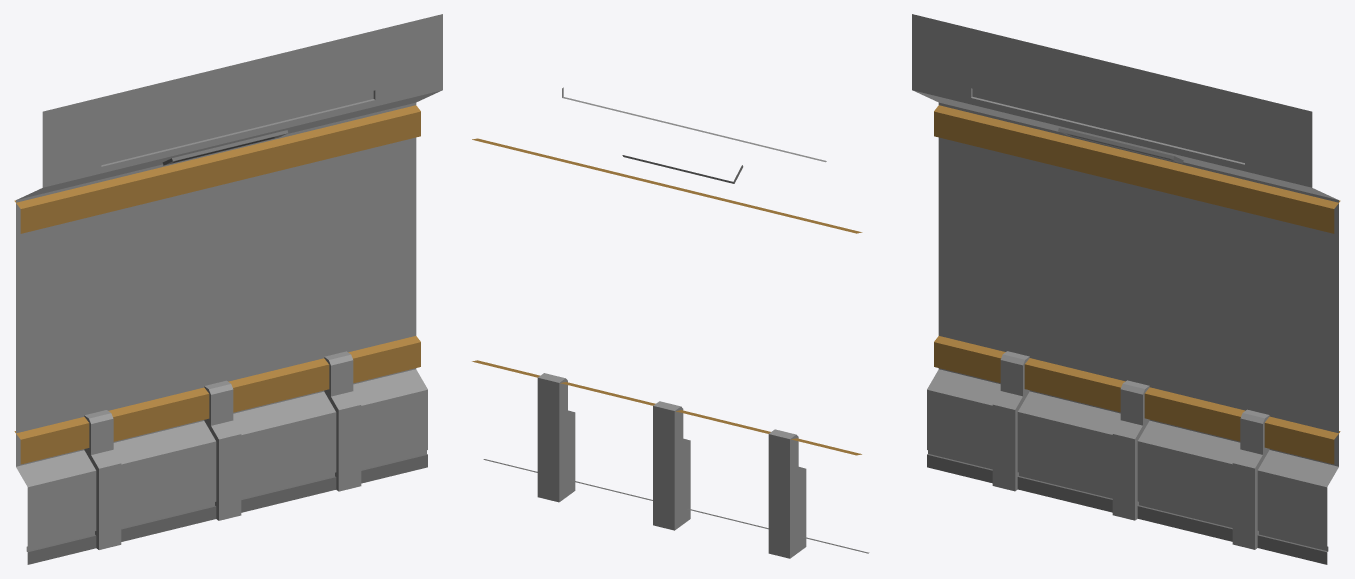
Rendered from quaternius-modular-sci-fi-wall-empty.glb.
3 views of the same model, side by side, from view 1: azimuth 30°, elevation 25°; view 2: azimuth 150°, elevation 25°; view 3: azimuth 330°, elevation 25° (orthographic). The views are drawn at different scales.
Visible parts, largest first — view 1: Wall_Empty; view 2: Wall_Empty; view 3: Wall_Empty.
Part boxes in pixels (x1,y1,x2,y2): Wall_Empty: (14, 14, 442, 564); Wall_Empty: (472, 87, 869, 558); Wall_Empty: (912, 14, 1340, 564).
Bounding box in the file's own units: 4 × 4.43 × 0.4992.
